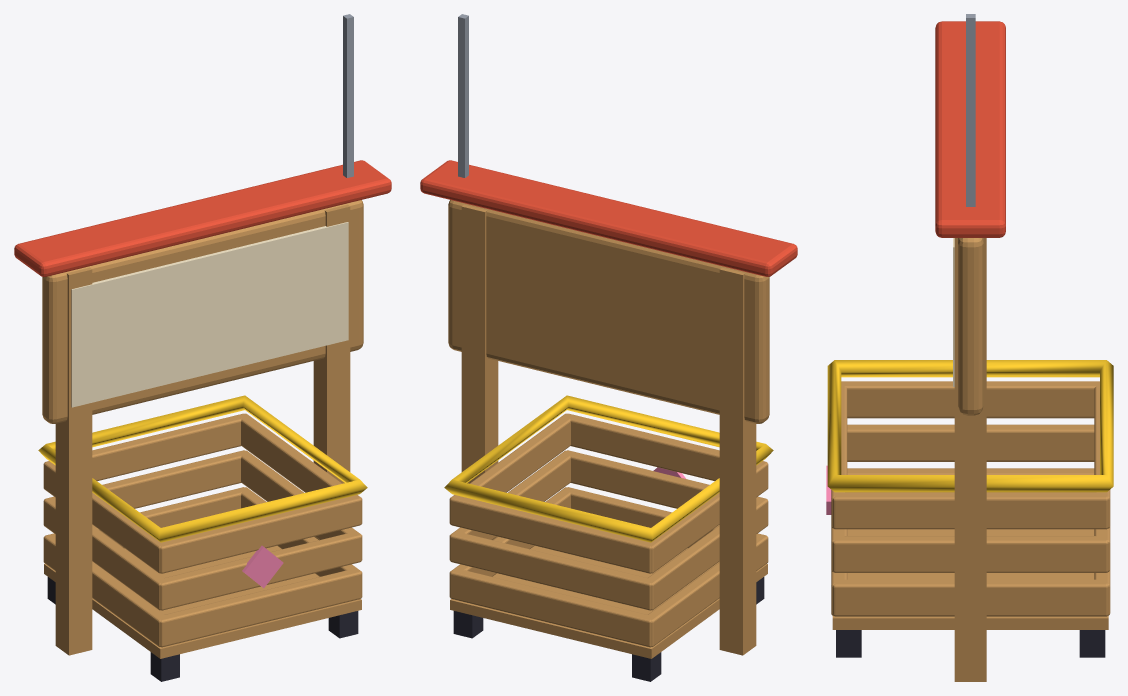
File: props-mp.4915b3c3.glb
3 views of the same model, side by side, from view 1: azimuth 30°, elevation 25°; view 2: azimuth 150°, elevation 25°; view 3: azimuth 270°, elevation 25° (orthographic). The views are drawn at different scales.
Visible parts, largest first — view 1: SupplyBin__T_wood, PlotSign__T_cream, PlotSign__T_wood, PlotSign__T_beam, SupplyBin__T_yellow, PlotSign__T_steel, SupplyBin__T_dark, SupplyBin__T_pink; view 2: PlotSign__T_wood, SupplyBin__T_wood, PlotSign__T_beam, SupplyBin__T_yellow, PlotSign__T_steel, SupplyBin__T_dark; view 3: SupplyBin__T_wood, PlotSign__T_wood, PlotSign__T_beam, SupplyBin__T_yellow, PlotSign__T_steel, SupplyBin__T_dark.
Part boxes in pixels (bbox=[...]): SupplyBin__T_wood: bbox=[43, 413, 362, 658]; PlotSign__T_cream: bbox=[71, 222, 348, 407]; PlotSign__T_wood: bbox=[42, 200, 363, 655]; PlotSign__T_beam: bbox=[14, 160, 391, 276]; SupplyBin__T_yellow: bbox=[38, 395, 367, 542]; PlotSign__T_steel: bbox=[343, 14, 353, 177]; SupplyBin__T_dark: bbox=[47, 577, 358, 681]; SupplyBin__T_pink: bbox=[242, 545, 283, 588]; PlotSign__T_wood: bbox=[448, 200, 769, 655]; SupplyBin__T_wood: bbox=[449, 413, 768, 658]; PlotSign__T_beam: bbox=[420, 160, 797, 276]; SupplyBin__T_yellow: bbox=[444, 395, 773, 542]; PlotSign__T_steel: bbox=[458, 14, 468, 177]; SupplyBin__T_dark: bbox=[453, 577, 764, 681]; SupplyBin__T_wood: bbox=[831, 381, 1110, 629]; PlotSign__T_wood: bbox=[954, 238, 986, 681]; PlotSign__T_beam: bbox=[935, 21, 1005, 237]; SupplyBin__T_yellow: bbox=[827, 360, 1113, 492]; PlotSign__T_steel: bbox=[966, 14, 975, 206]; SupplyBin__T_dark: bbox=[836, 630, 1105, 657].
Size of the model in its own units: 1.5 by 2.3 by 0.8955.
